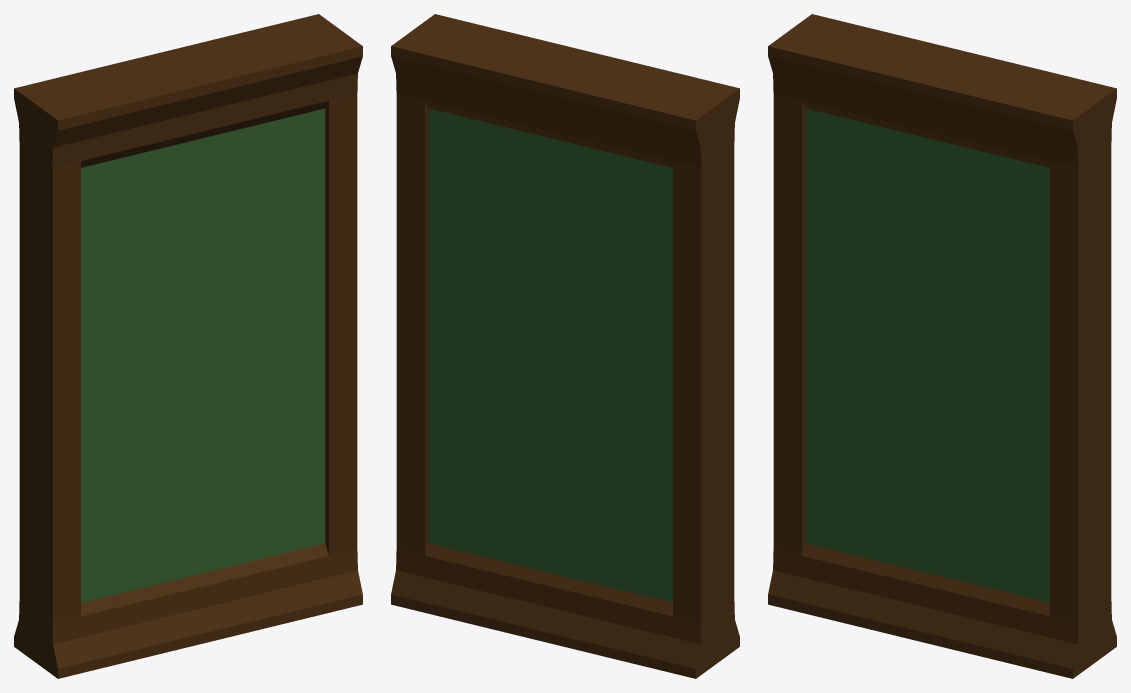
Rendered from framedWall_GEO.fbx.
3 views of the same model, side by side, from view 1: azimuth 30°, elevation 25°; view 2: azimuth 150°, elevation 25°; view 3: azimuth 330°, elevation 25° (orthographic).
Parts seen in each view (by area): view 1: wallBase_framed; view 2: wallBase_framed; view 3: wallBase_framed.
Boxes of the visible parts, x1,y1,x2,y2 form: wallBase_framed: (14,14,362,678); wallBase_framed: (391,14,739,678); wallBase_framed: (768,14,1116,678).
Size of the model in its own units: 200 by 350 by 50.
